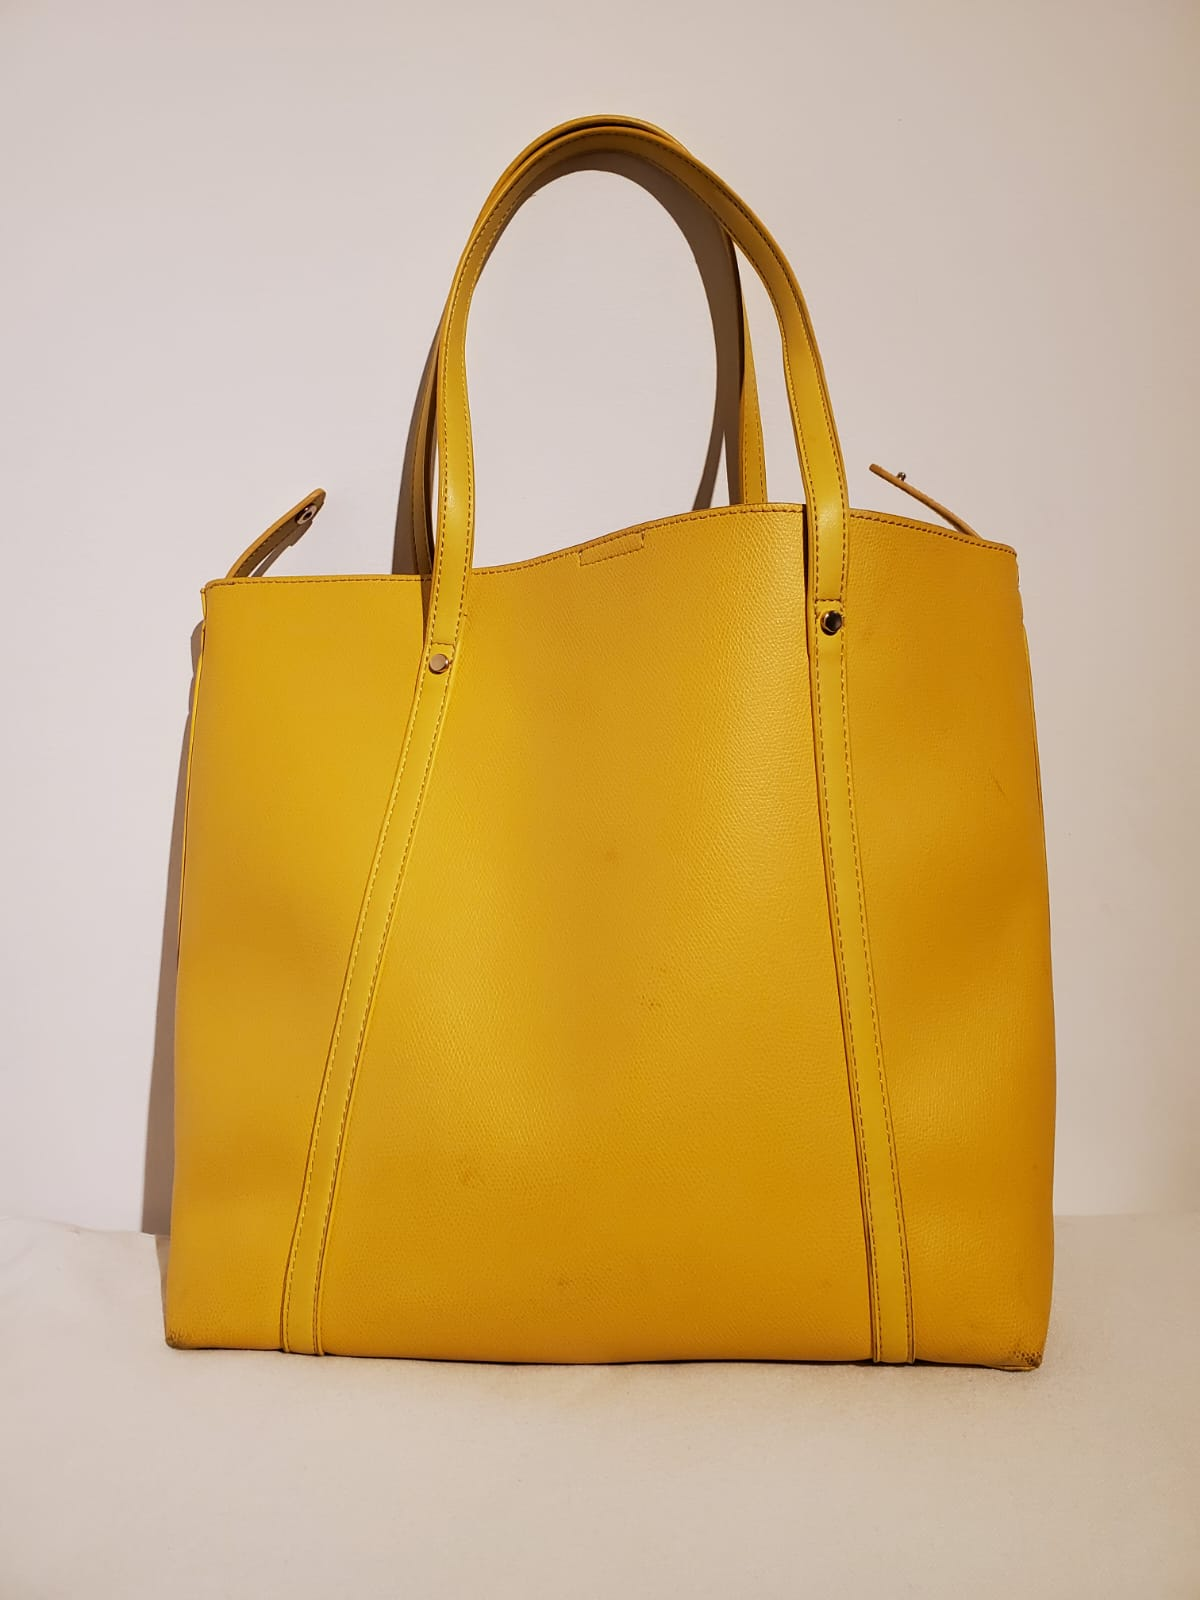cartera: (124, 108, 1076, 1390)
cuero: (174, 510, 1037, 1373)
